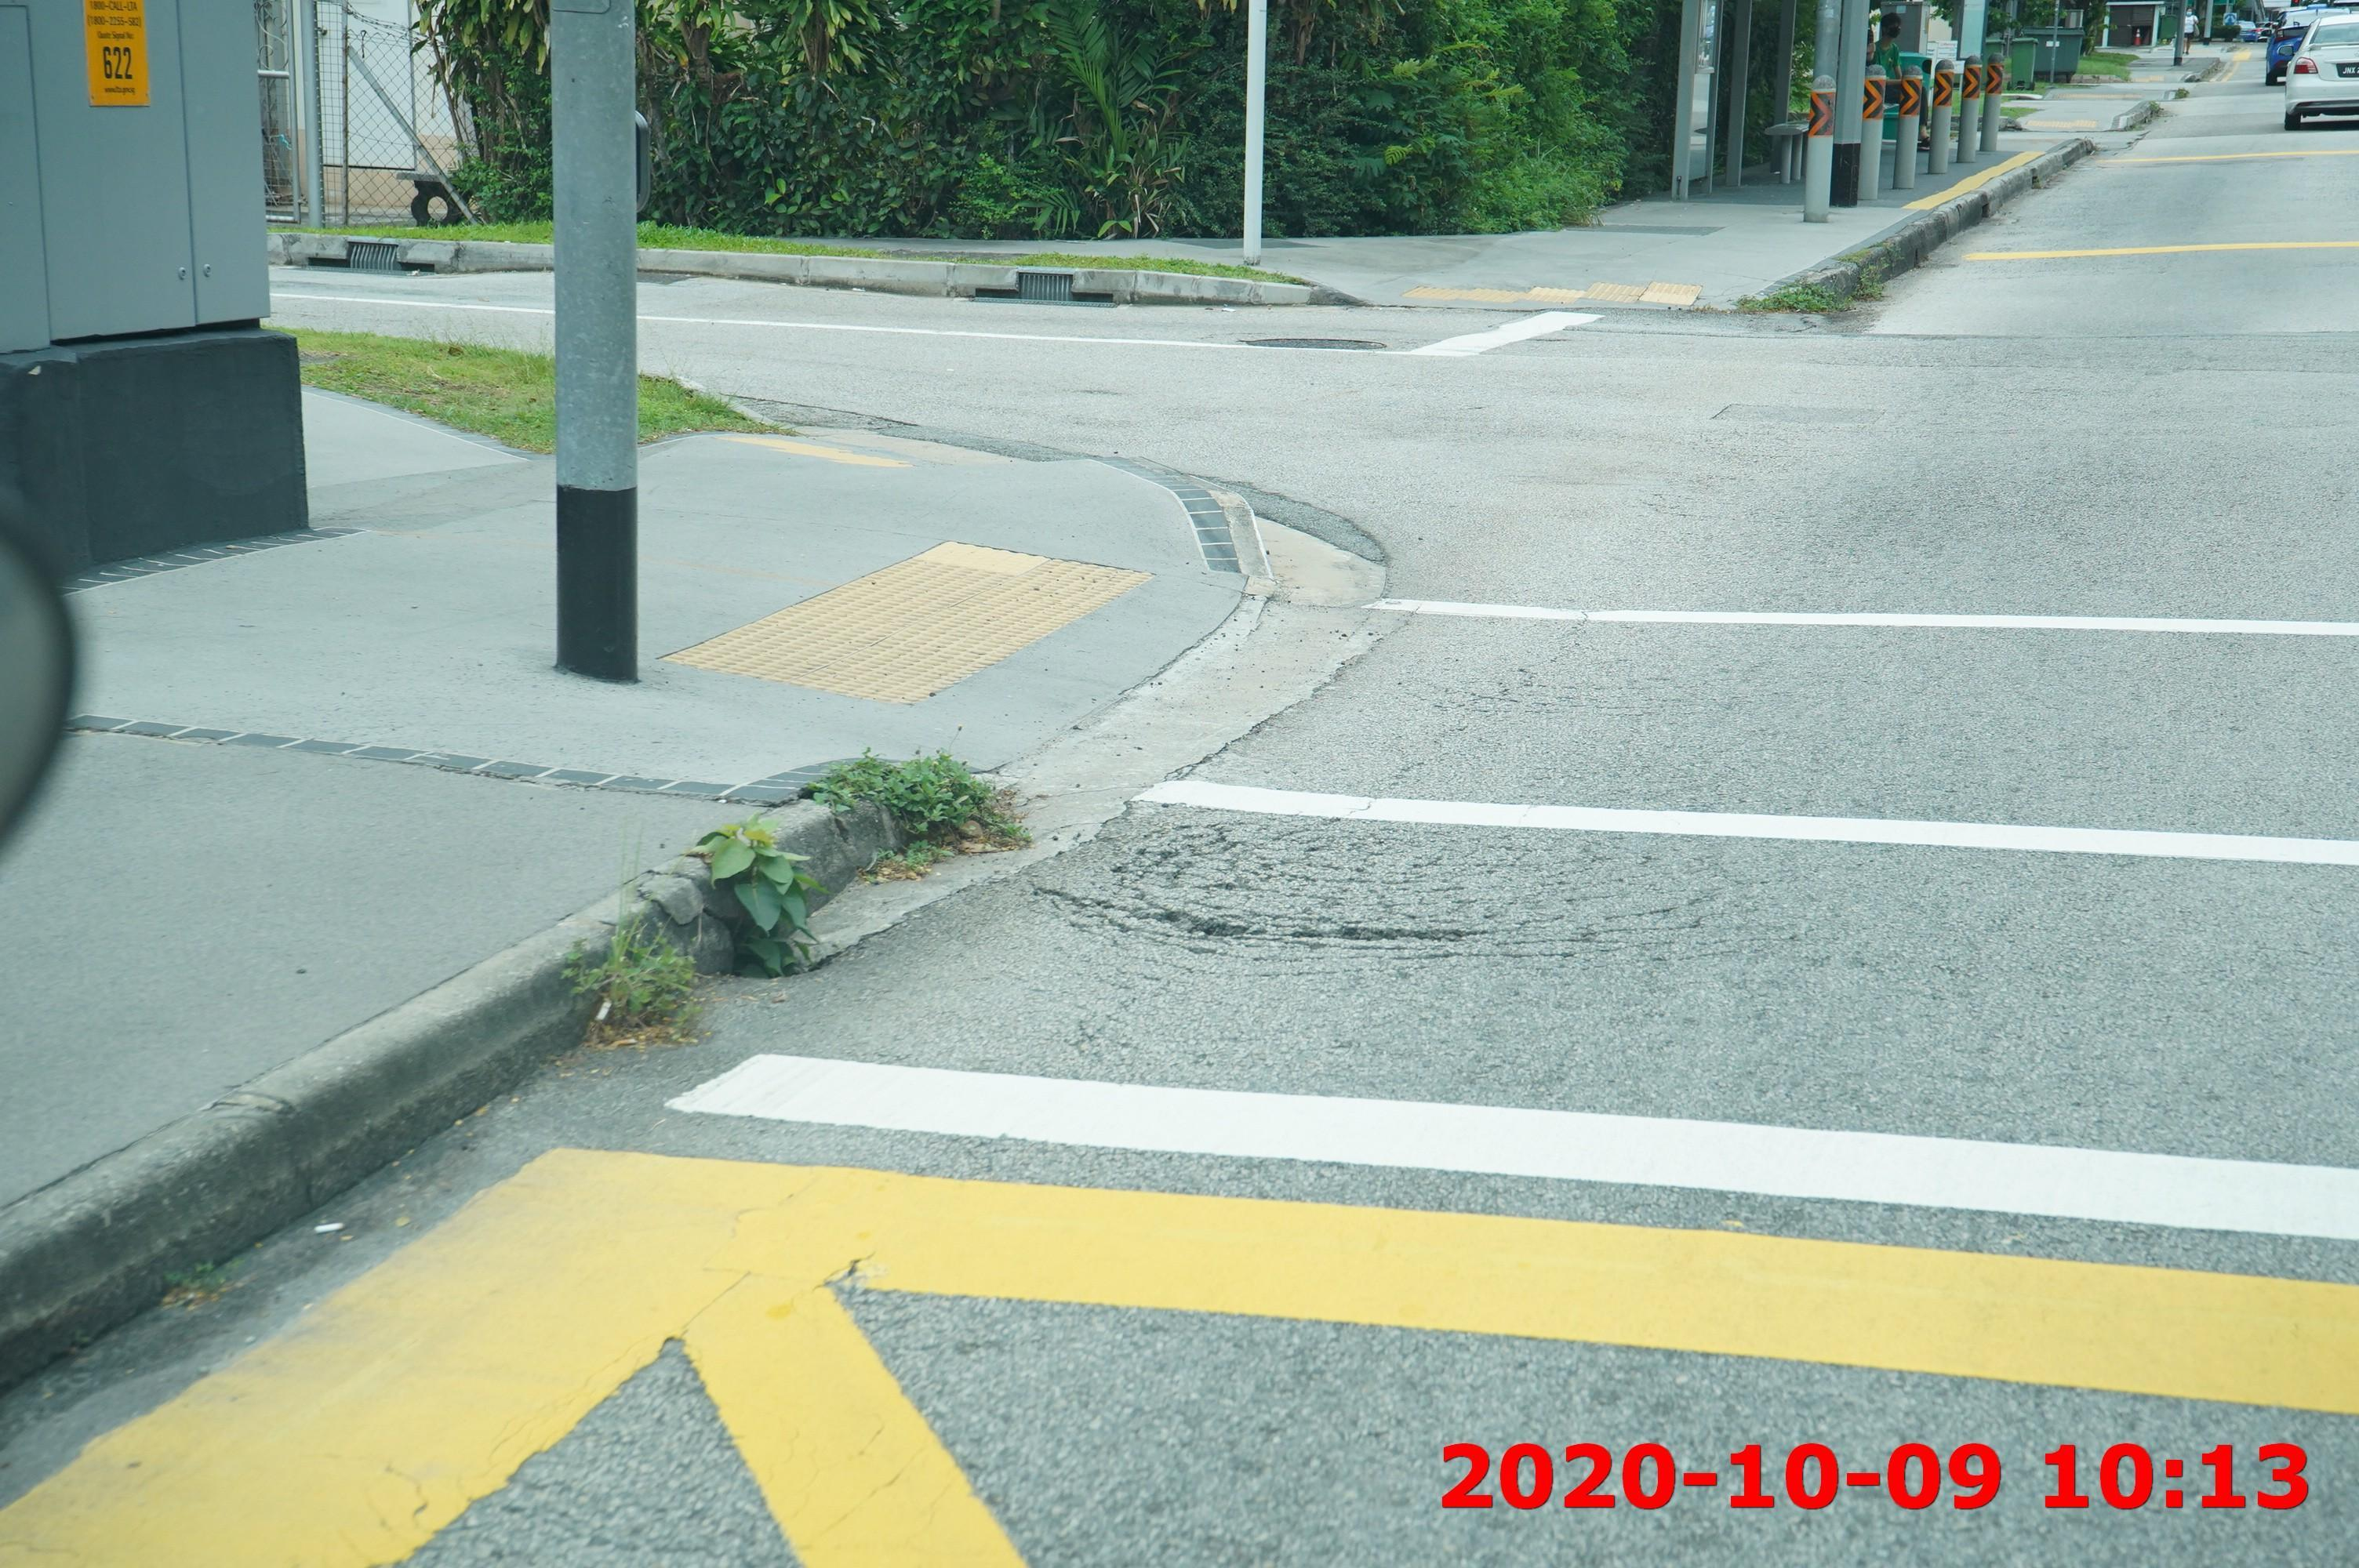alligator crack: (1027, 805, 1713, 971)
